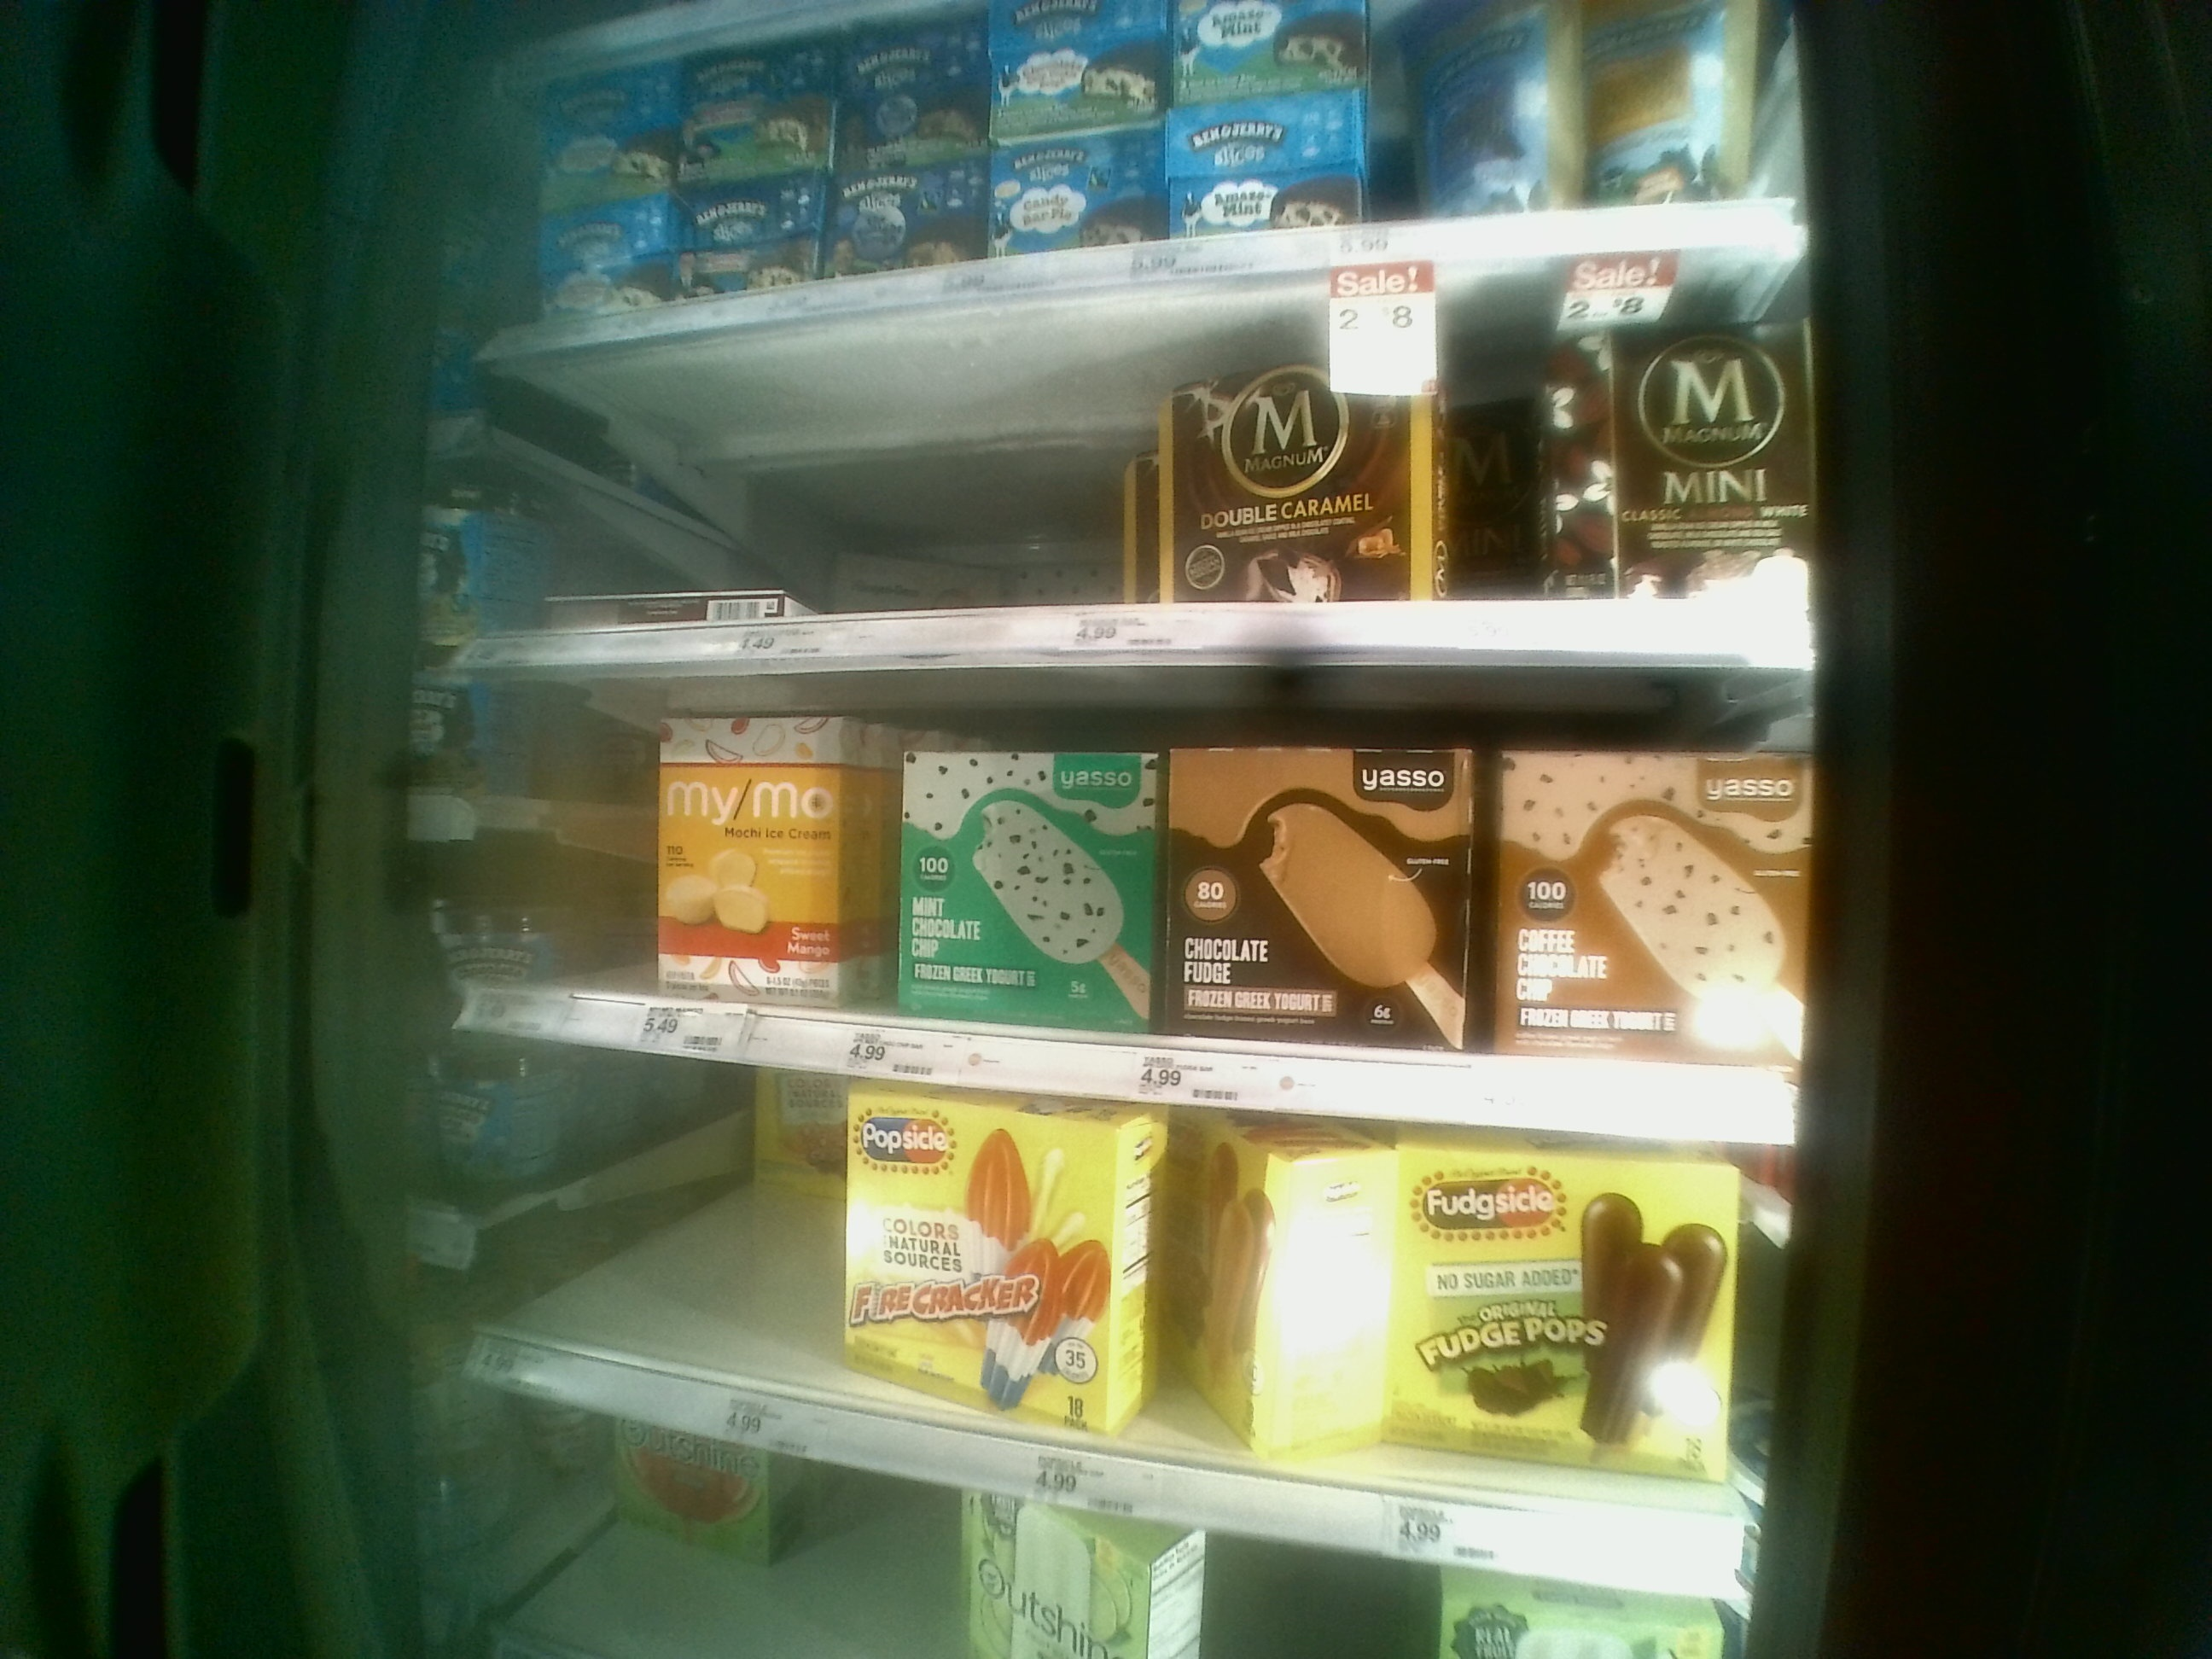shelf: (465, 1023, 1806, 1601), (460, 660, 1797, 1150), (465, 272, 1804, 653)
